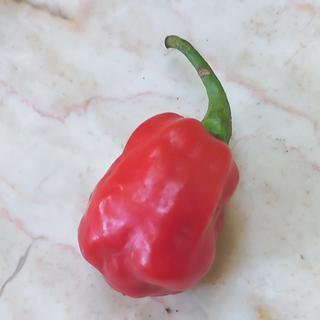Grade-A: (74, 110, 246, 301)
